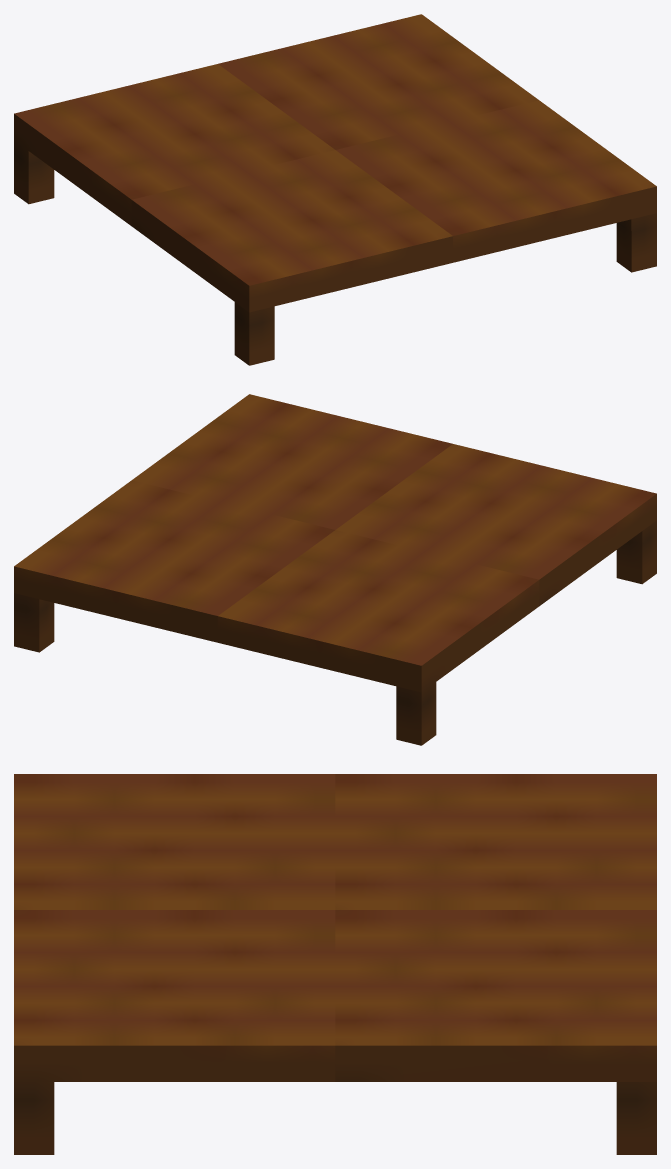
The model's file is table_large.obj.
3 renders of one model, top to bottom at view 1: azimuth 30°, elevation 25°; view 2: azimuth 150°, elevation 25°; view 3: azimuth 270°, elevation 25°, orthographic. The views are drawn at different scales.
Parts seen in each view (by area): view 1: Default; view 2: Default; view 3: Default.
Boxes of the visible parts, x1,y1,x2,y2 form: Default: [14, 14, 656, 365]; Default: [14, 394, 656, 745]; Default: [14, 774, 656, 1154].
Bounding box in the file's own units: 2 × 0.375 × 2.
